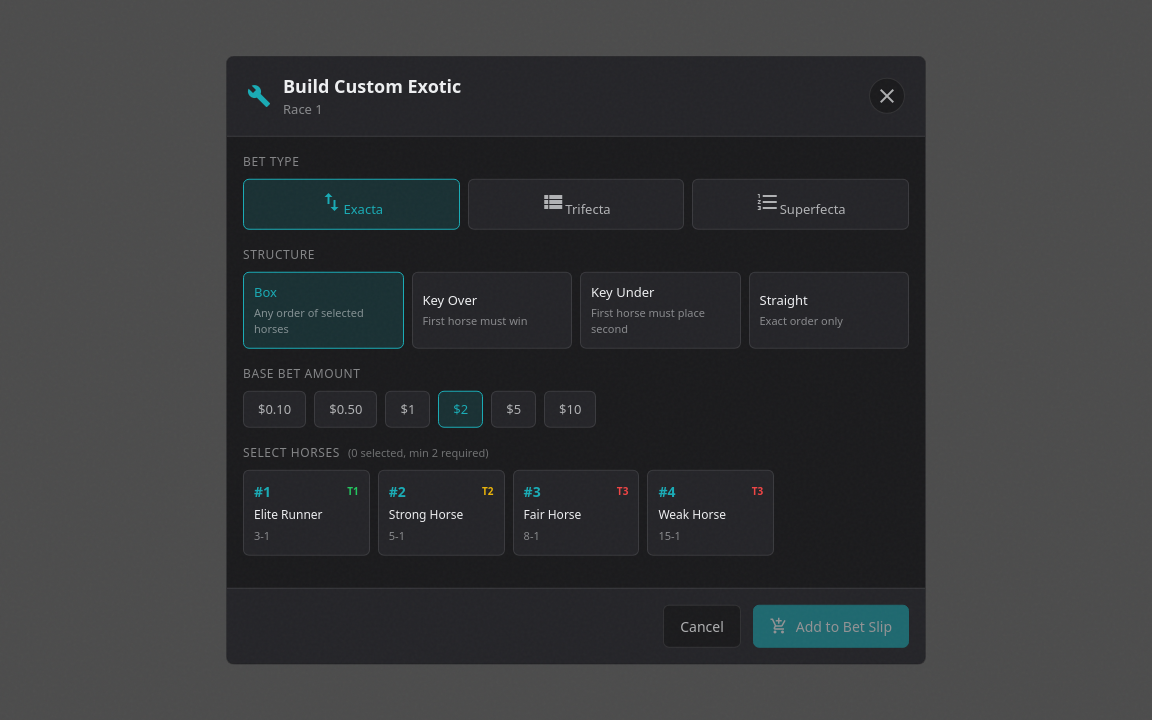
ExoticBuilderModal › Horse Selection › toggles horse selection on card click
The image size is (1152, 720).
Expected: the text "(0 selected, min 2 required)" is shown, [348,444,488,461]
// Click on the first horse card
Click the element with class "exotic-horse-card" showing "#1 T1 Elite Runner 3-1" at (306, 513), box [243,470,370,555]
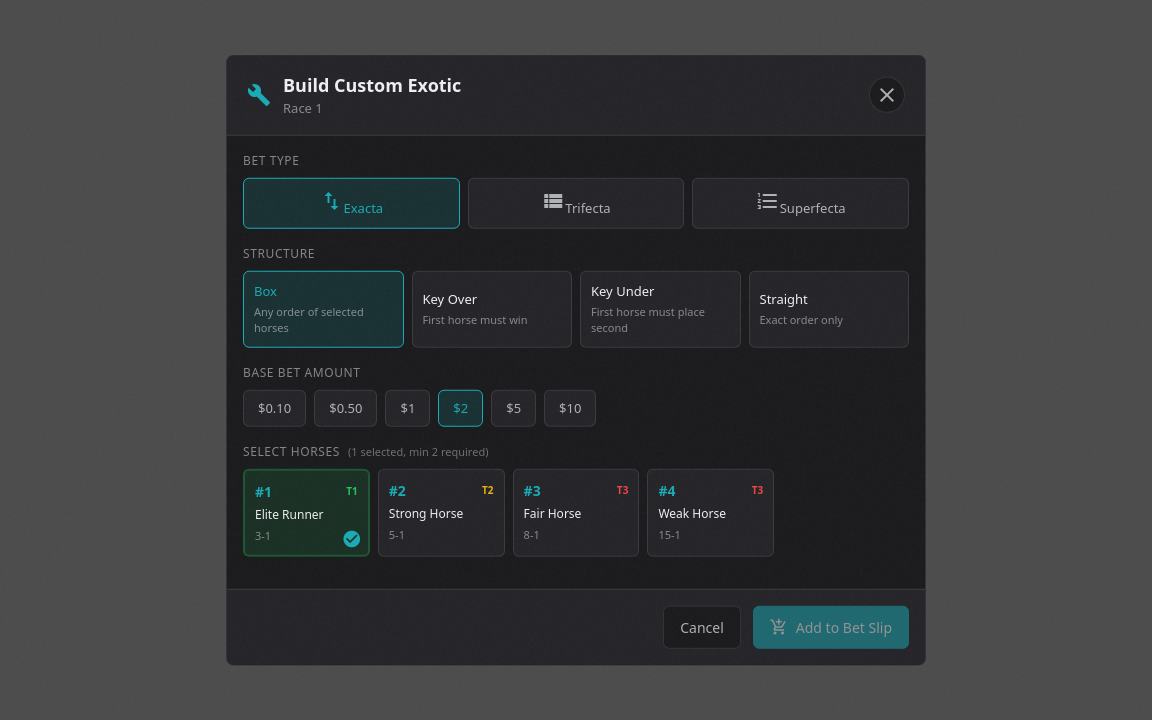
Expected: the text "(1 selected, min 2 required)" is shown, [348,444,488,460]
